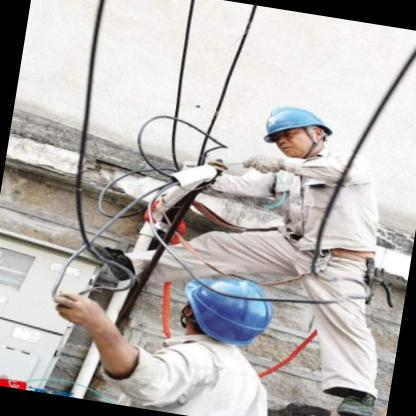helmet: (164, 264, 292, 356), (245, 92, 347, 169)
